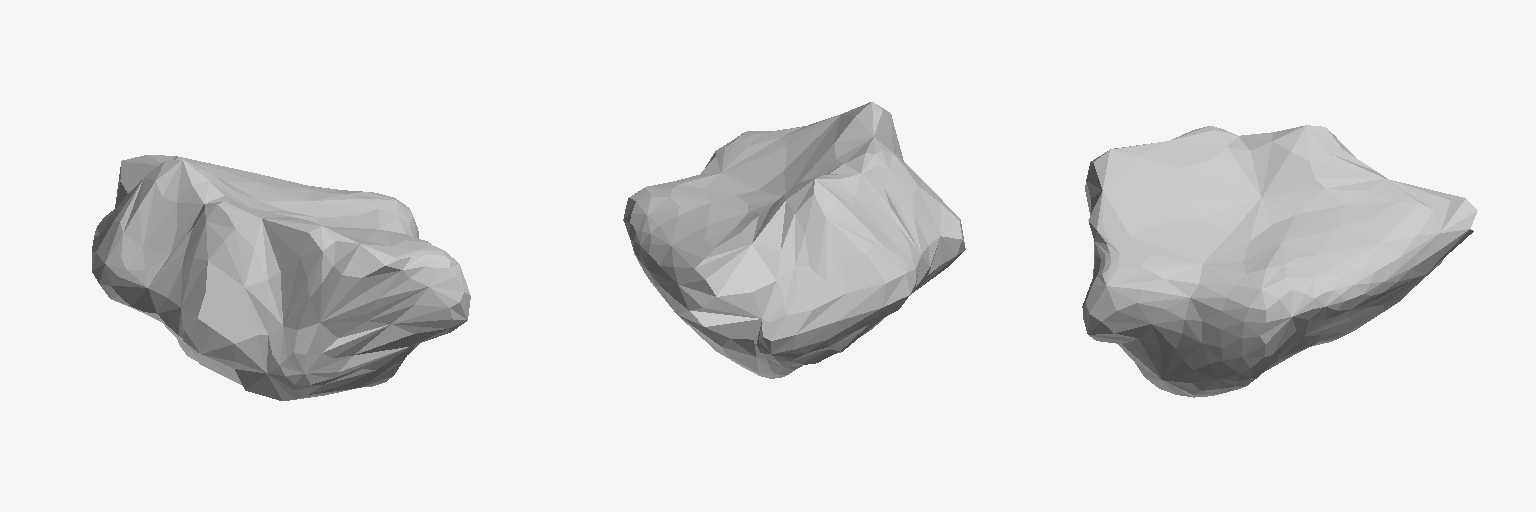
File: Cloud_2.obj
The picture shows the model from 3 angles: view 1: azimuth 30°, elevation 25°; view 2: azimuth 150°, elevation 25°; view 3: azimuth 270°, elevation 25°; orthographic projection.
Visible parts, largest first — view 1: Mball.008; view 2: Mball.008; view 3: Mball.008.
Boxes of the visible parts, box(x1,y1,x2,y2) form: Mball.008: box(92, 155, 470, 400); Mball.008: box(623, 102, 965, 378); Mball.008: box(1082, 125, 1477, 397).
Bounding box in the file's own units: 3.97 × 2.58 × 4.55.